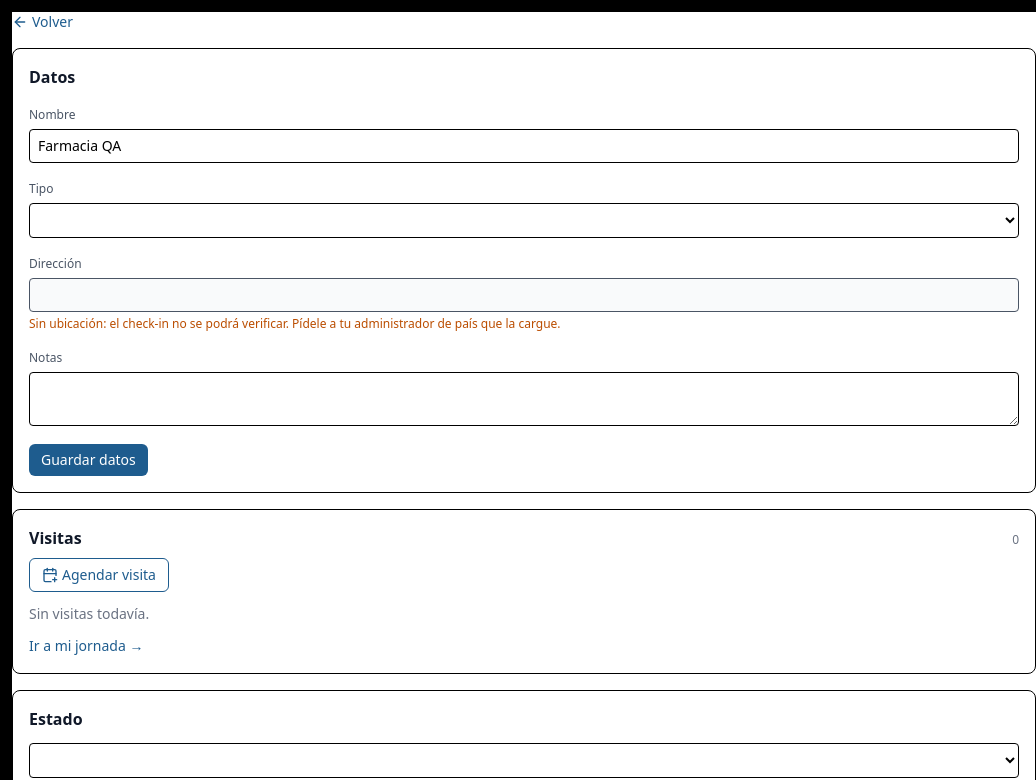
ProspectoFichaPage — el 23505 al agendar lleva el contexto de la pantalla › PA026 sí usa el texto del mapa: ese sí es específico y no necesita contexto
// fireEvent y no user-event: no se agrega una dependencia nueva por un test.
Click the button "Agendar visita" at (99, 575), box [29, 558, 169, 592]
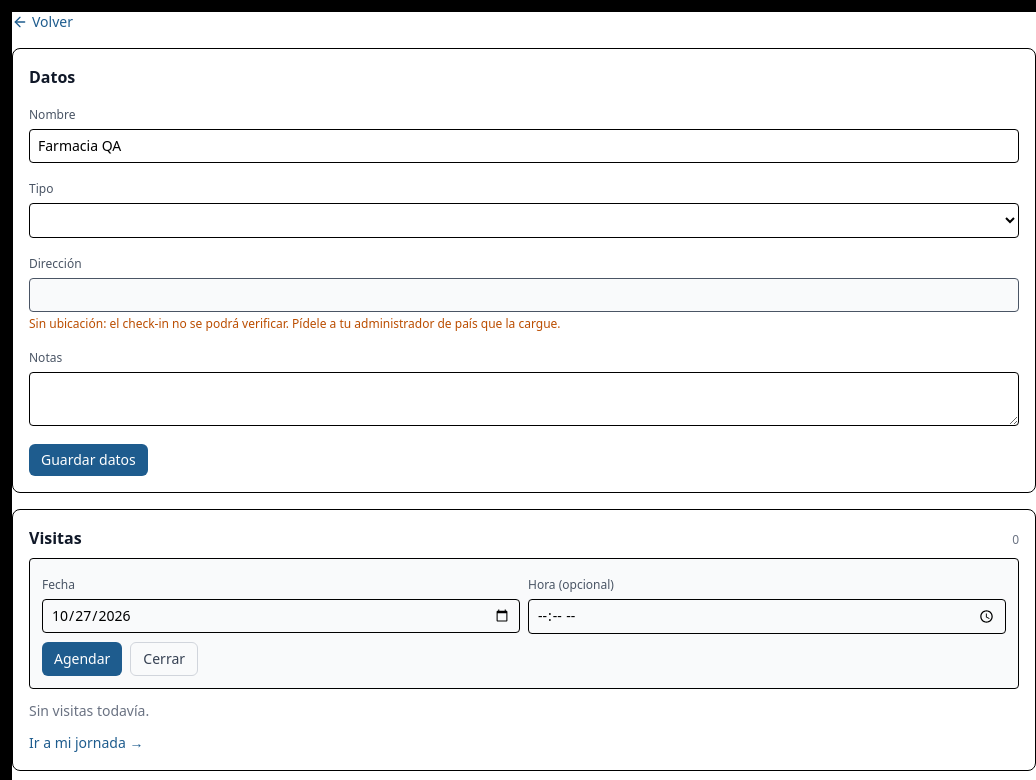
Click the button "Agendar" at (82, 659), box [42, 642, 122, 676]
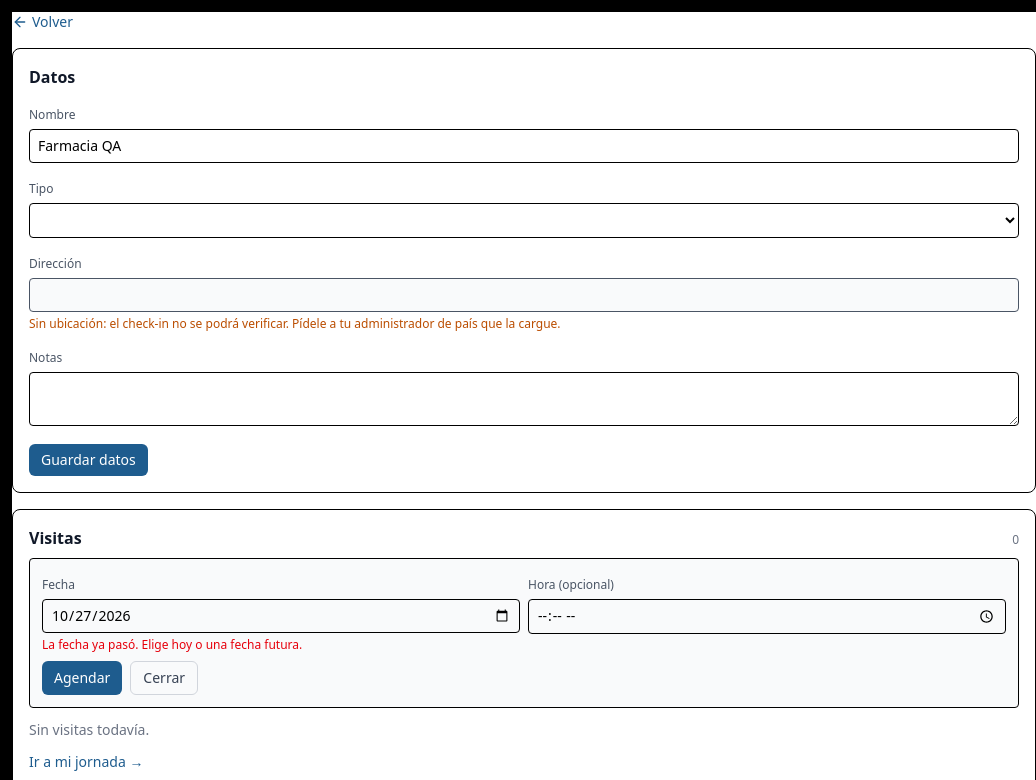
Expected: the text "La fecha ya pasó. Elige hoy o una fecha futura." is shown, [42, 636, 302, 653]
